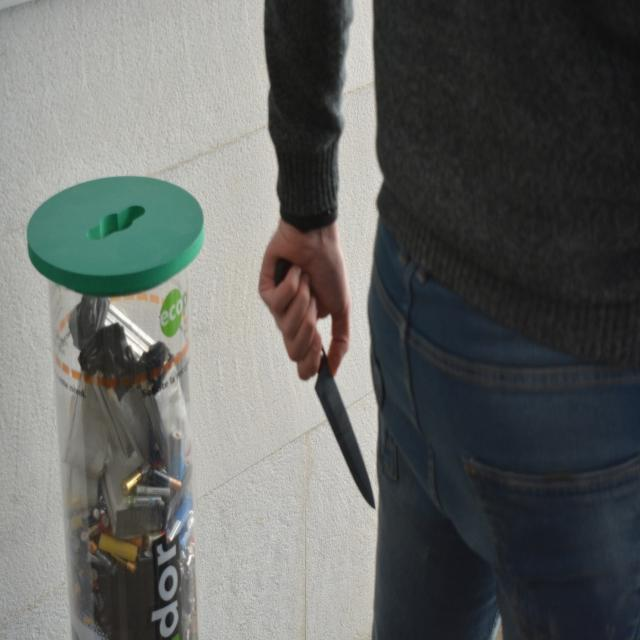knife: (275, 256, 379, 516)
